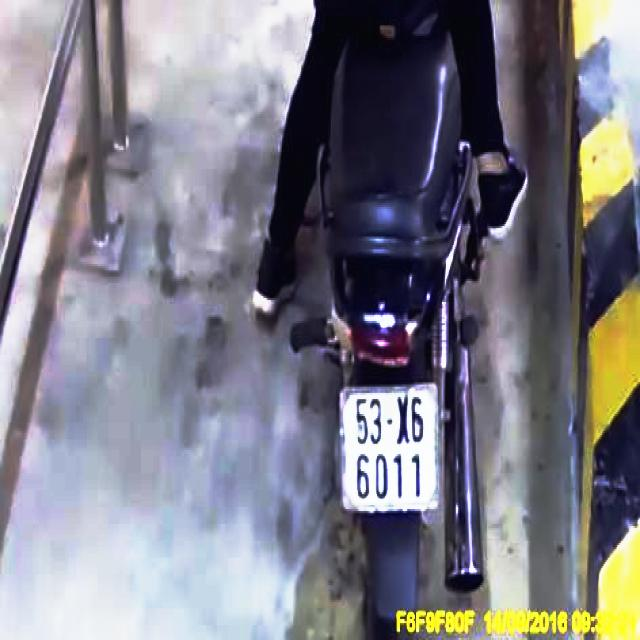license_plate: (339, 387, 438, 514)
